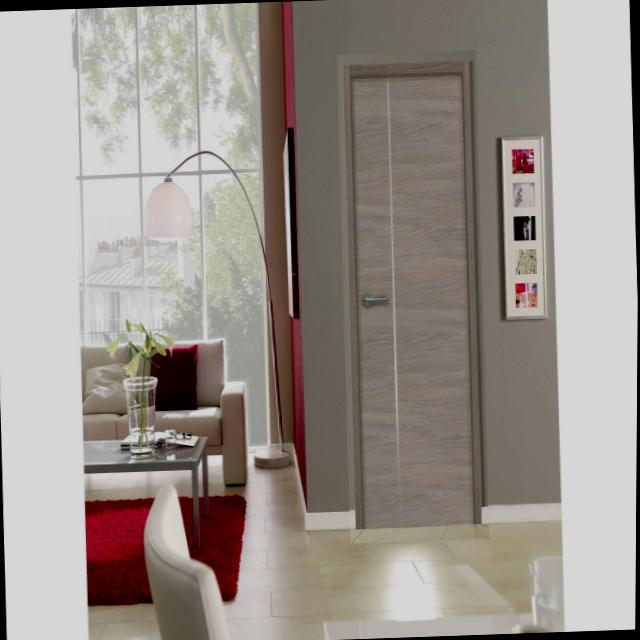close: (333, 49, 494, 544)
